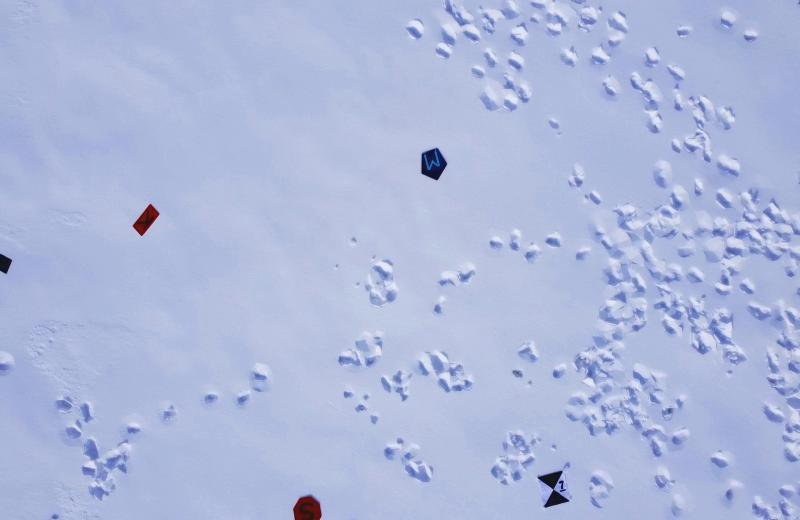Octagon: (289, 489, 324, 520)
Pentagon: (418, 145, 451, 186)
Rectangle: (130, 200, 162, 238)
Square: (0, 253, 17, 279)
